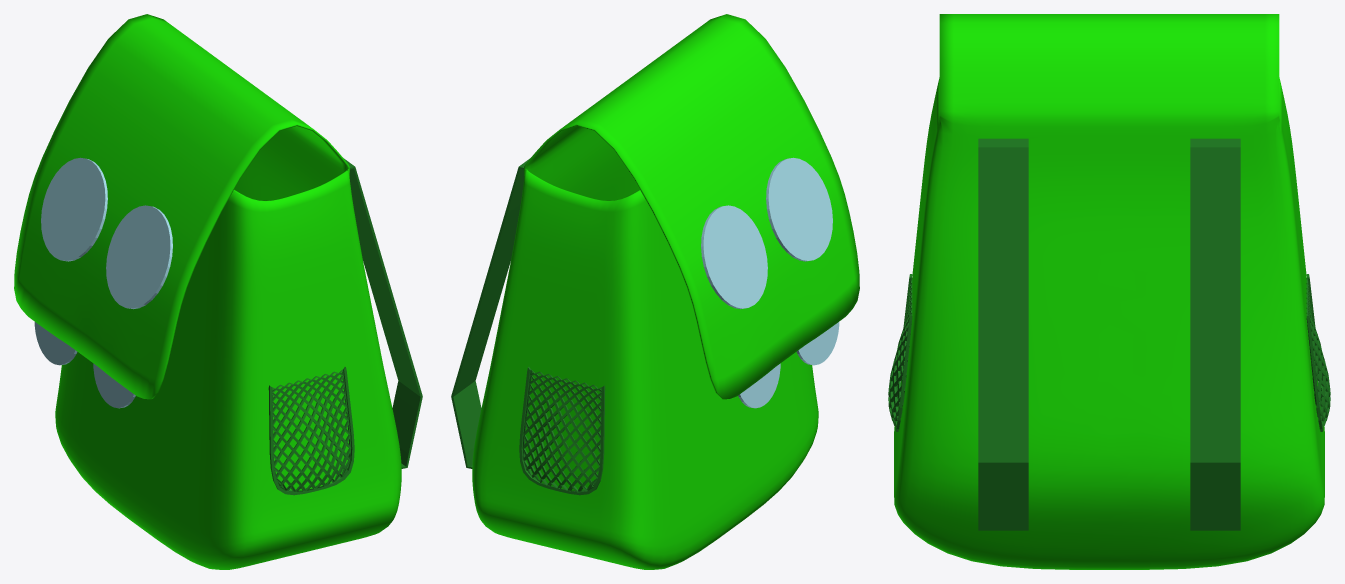
The model's file is SM_ChildrensBackPack.fbx.
3 renders of one model, left to right at view 1: azimuth 30°, elevation 25°; view 2: azimuth 150°, elevation 25°; view 3: azimuth 270°, elevation 25°, orthographic. The views are drawn at different scales.
Visible parts, largest first — view 1: SM_ChildrensBackPack; view 2: SM_ChildrensBackPack; view 3: SM_ChildrensBackPack.
Part boxes in pixels (box(x1,y1,x2,y2)): SM_ChildrensBackPack: box(14, 14, 422, 569); SM_ChildrensBackPack: box(451, 14, 859, 569); SM_ChildrensBackPack: box(888, 14, 1330, 569).
Size of the model in its own units: 180 by 270 by 214.
